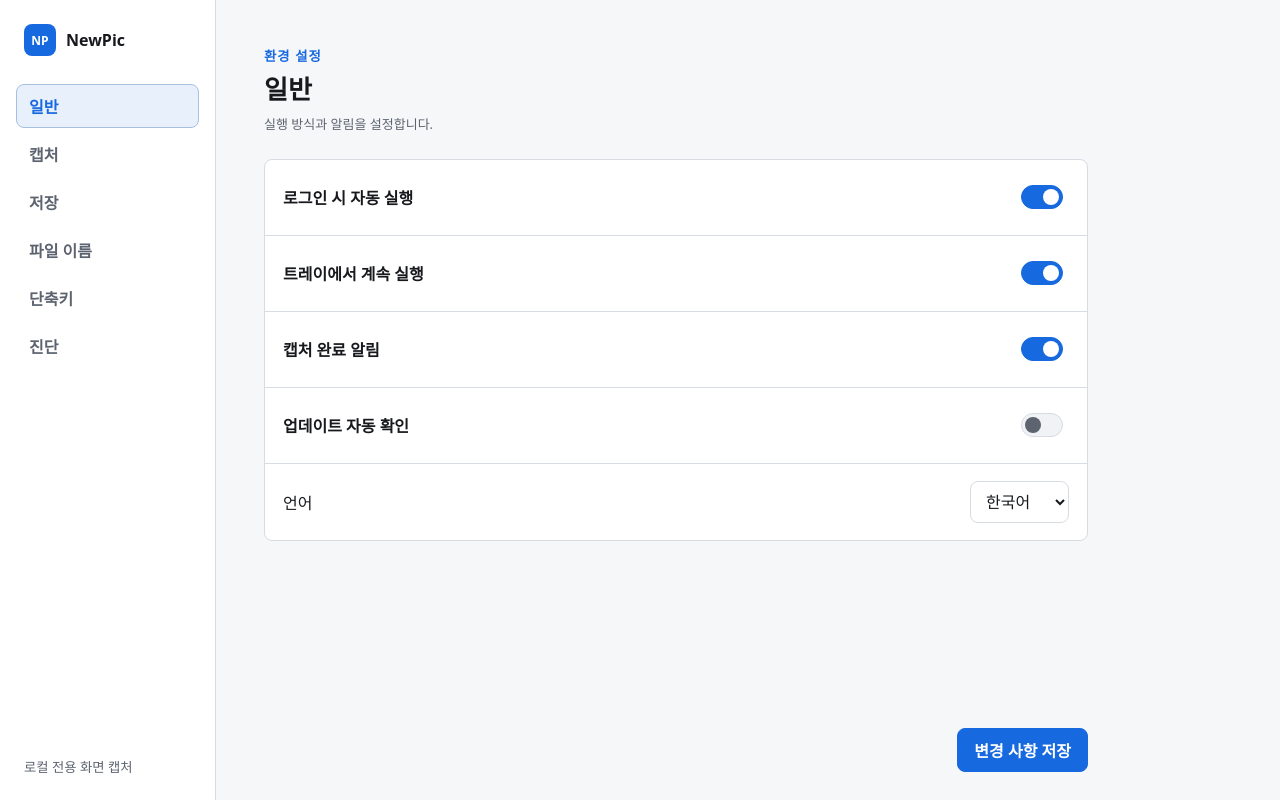
it: NewPic settings › shows the 001.png filename preview
Expected: the heading "일반" is shown, [264,71,312,107]
Click the button "파일 이름".
click(108, 250)  # box [16,228,199,272]
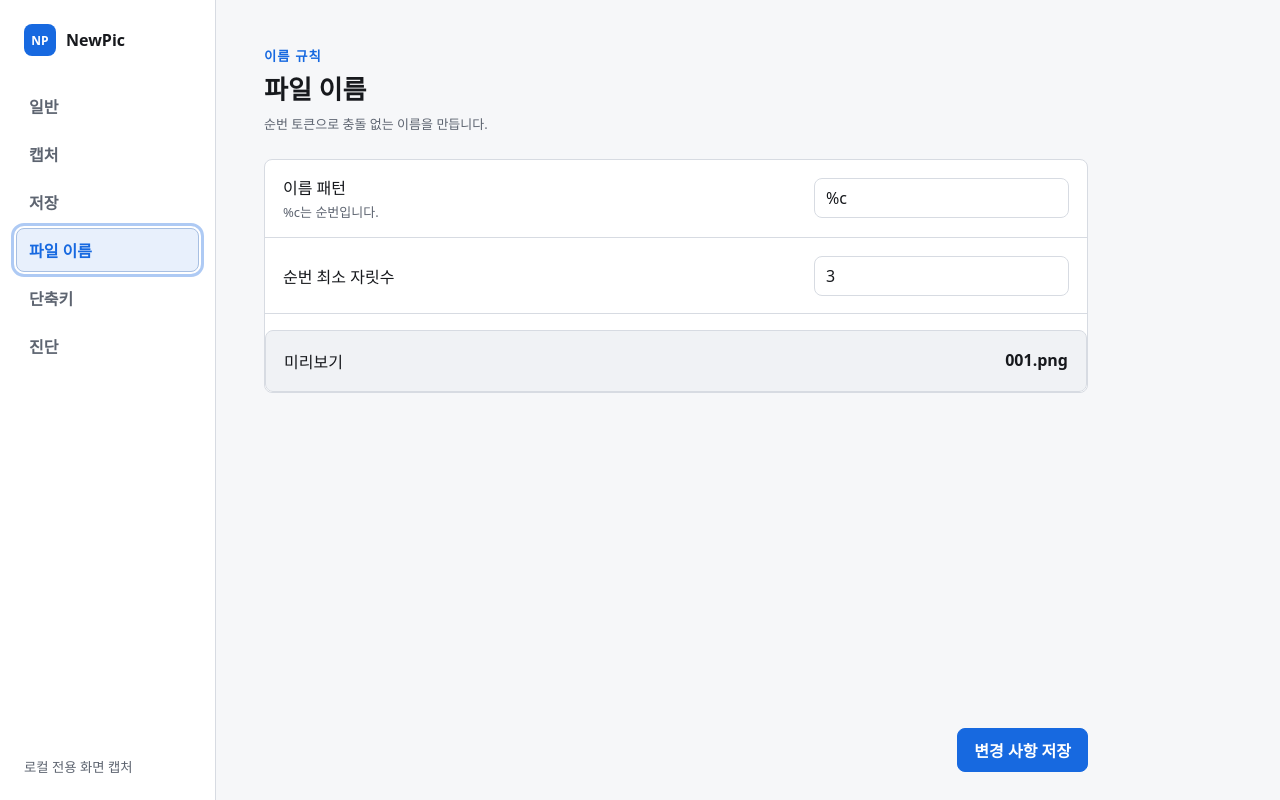
Now the text "001.png" is shown, box [1005,349,1068,373]
